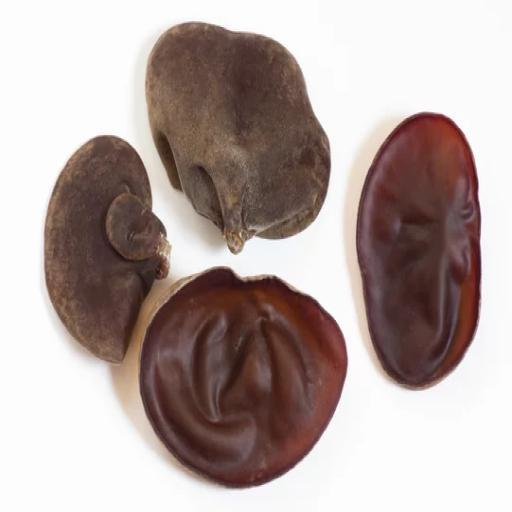mushroom: (139, 263, 354, 487), (146, 13, 328, 255), (352, 107, 486, 401), (39, 127, 172, 362)
